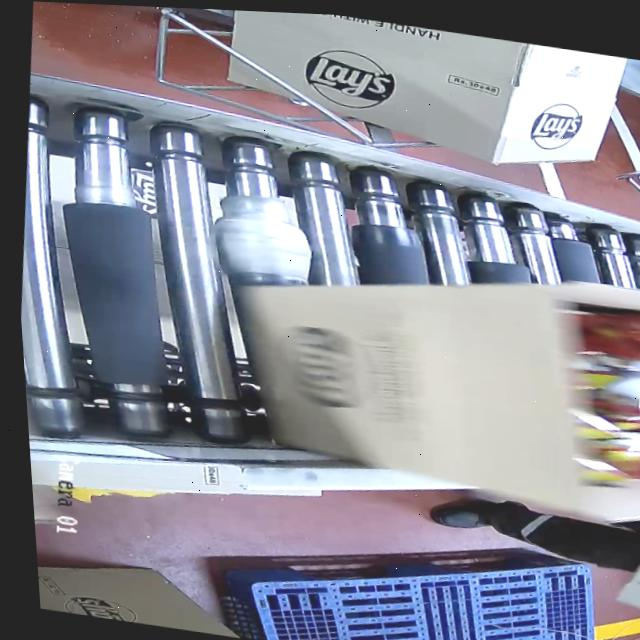MASALA: (561, 301, 640, 475)
